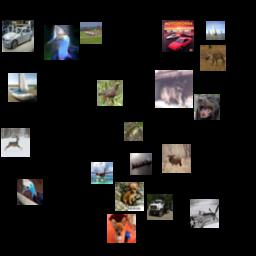airplane: (190, 199, 219, 228), (80, 22, 102, 44), (91, 162, 113, 184)
automobile: (2, 20, 34, 52), (162, 20, 194, 52)
bird: (44, 25, 79, 60), (97, 80, 123, 106), (17, 179, 43, 205)
cat: (155, 70, 193, 108)
deer: (1, 128, 30, 157), (162, 144, 191, 173), (200, 45, 226, 71)
dog: (115, 182, 144, 211), (107, 214, 136, 243), (194, 94, 220, 120)
frog: (124, 122, 143, 141)
ship: (8, 73, 37, 102), (130, 153, 152, 175), (206, 21, 225, 40)
truck: (147, 194, 173, 220)
